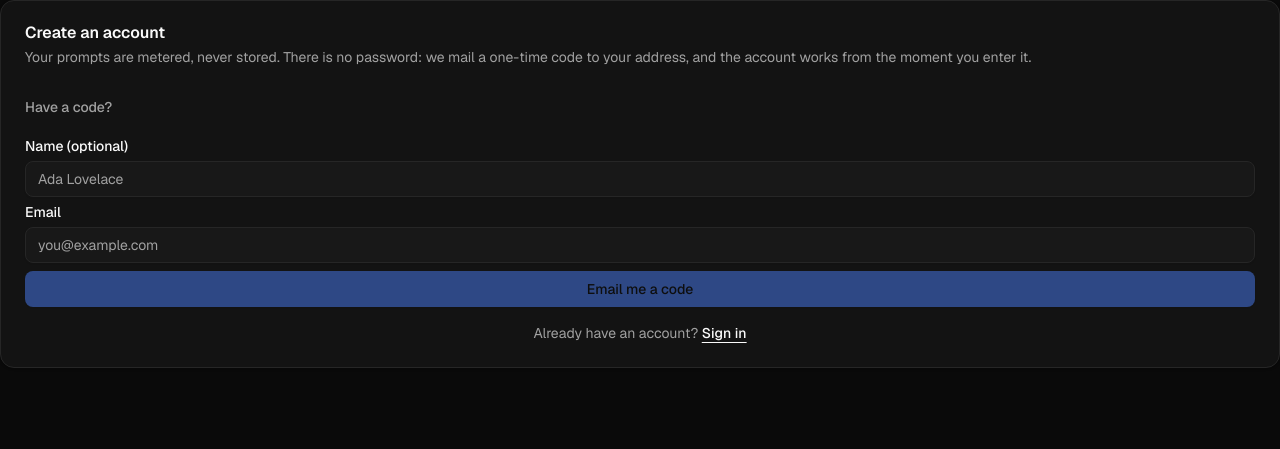
SignUpForm › says a dead code is dead and offers a new one: OTP_EXPIRED
The image size is (1280, 449).
In the field labelled "Email": [640, 245] box [25,227,1255,263], type "dev@example.com"
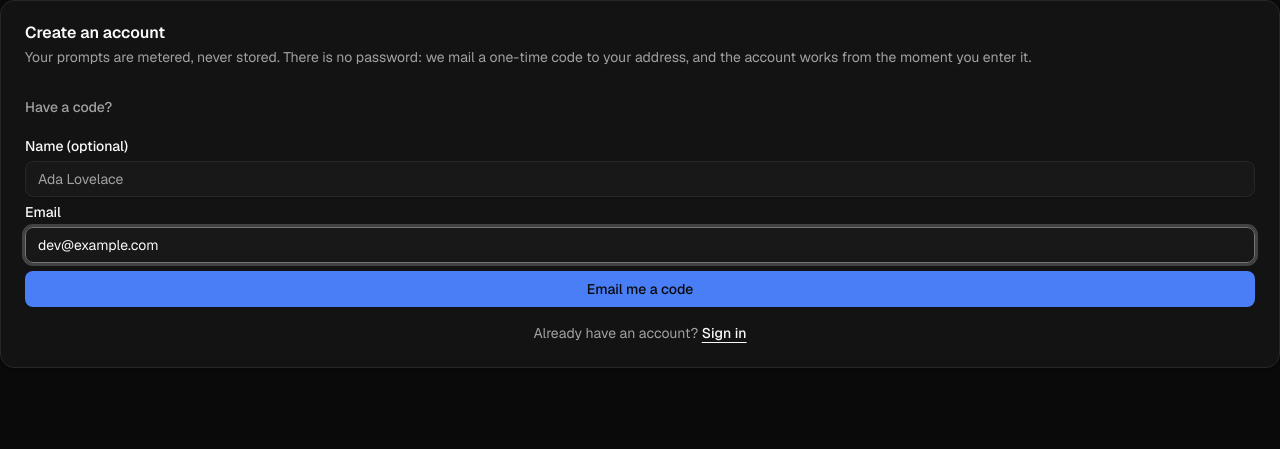
Click the button "Email me a code": [640, 289] box [25,271,1255,307]
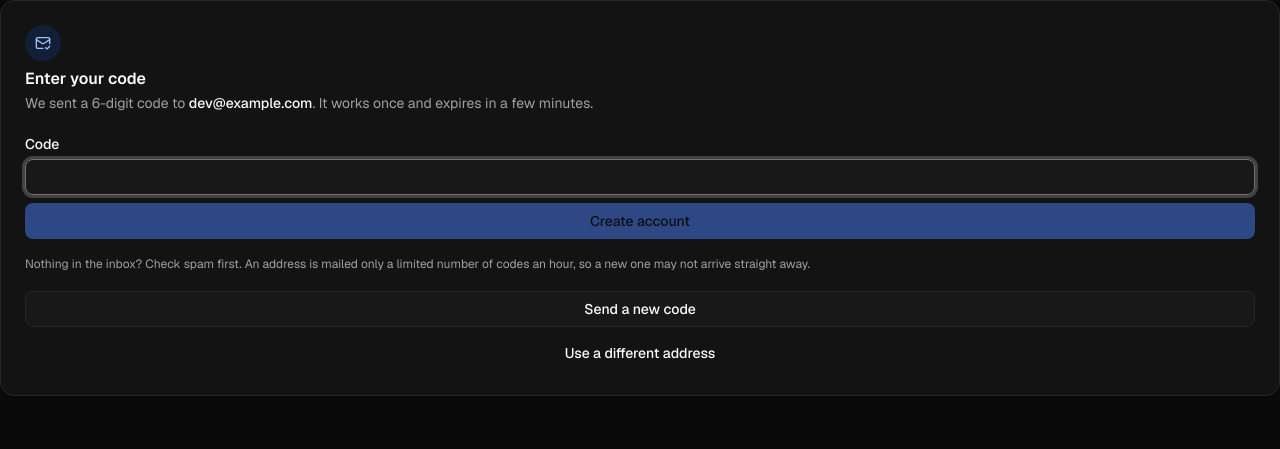
In the field labelled "Code": [640, 177] box [25,159,1255,195], type "123456"
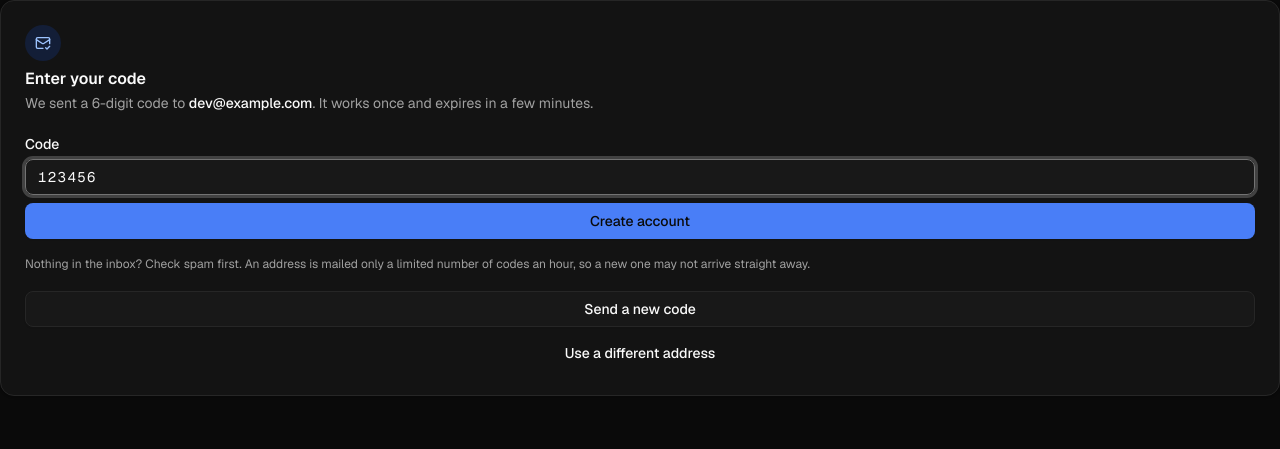
Click the button "Create account": [640, 221] box [25,203,1255,239]
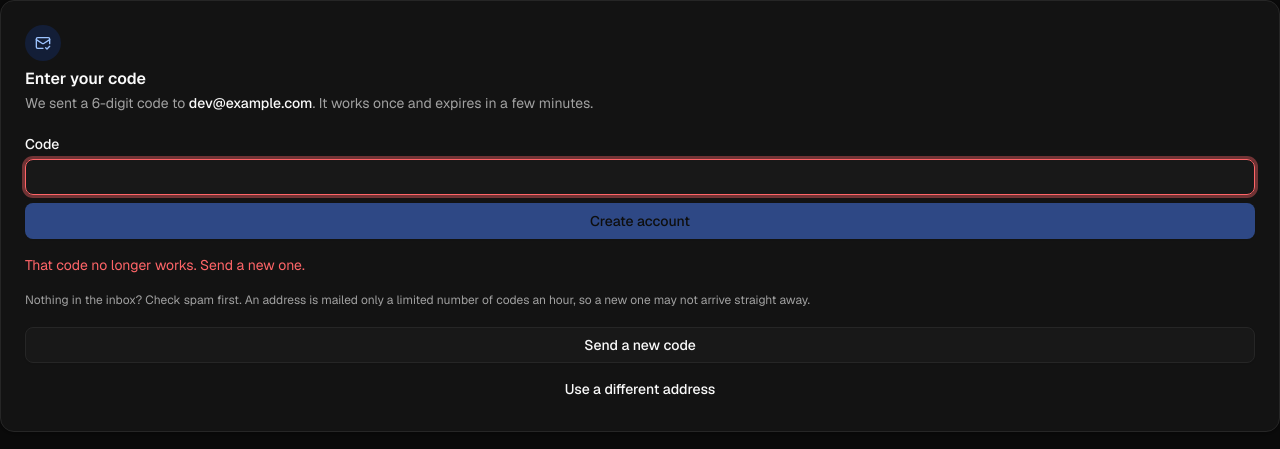
Check: the message reads "That code no longer works. Send a new one.", box [25,256,305,274]
Check: the field labelled "Code" is empty, box [25,159,1255,195]
Click the button "Send a new code": [640, 344] box [25,326,1255,362]
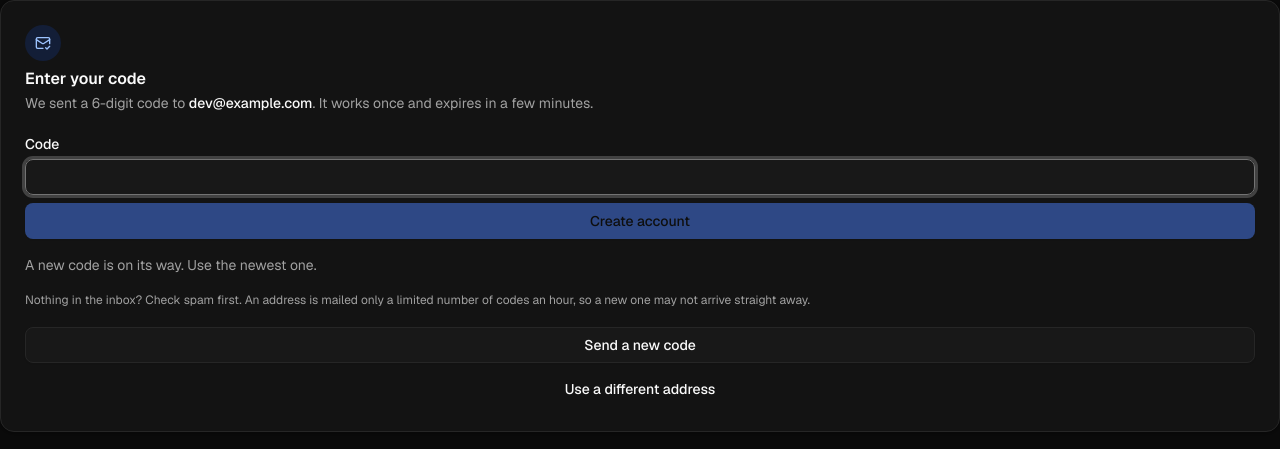
Check: the message "A new code is on its way. Use the newest one." is shown, box [25,256,316,274]
